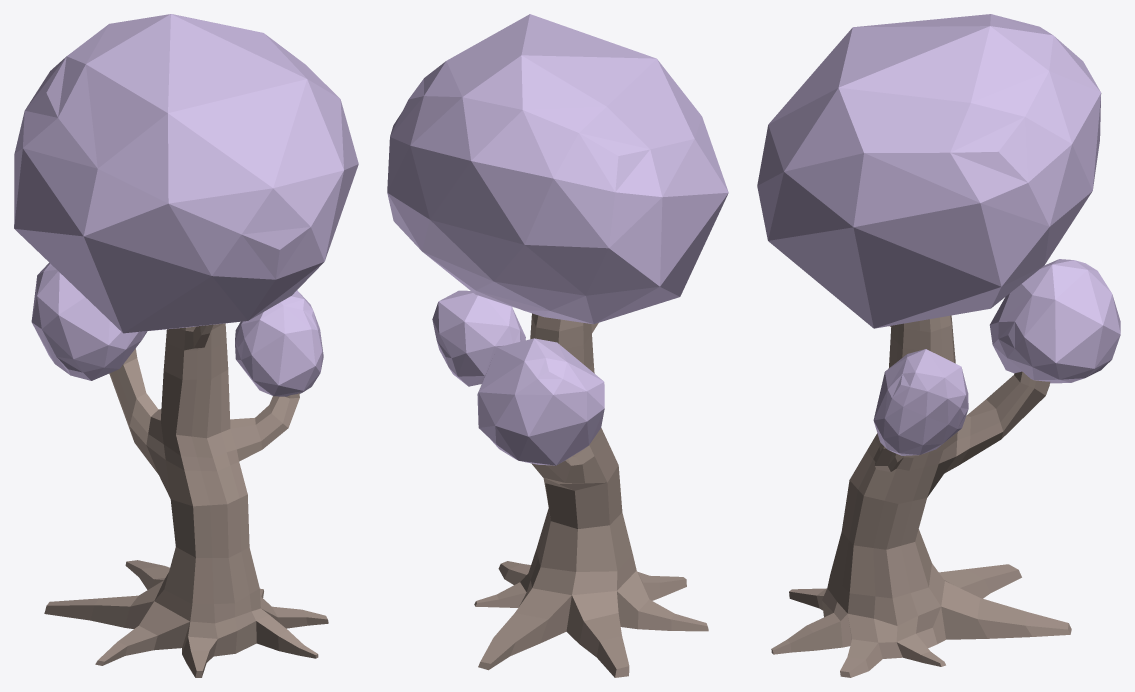
Rendered from Wishing_Tree3.fbx.
3 views of the same model, side by side, from view 1: azimuth 30°, elevation 25°; view 2: azimuth 150°, elevation 25°; view 3: azimuth 270°, elevation 25° (orthographic). The views are drawn at different scales.
Visible parts, largest first — view 1: Wishing; view 2: Wishing; view 3: Wishing.
Boxes of the visible parts, <box> form: Wishing: <box>14,14,358,677</box>; Wishing: <box>387,14,728,677</box>; Wishing: <box>757,14,1120,677</box>.
Size of the model in its own units: 412 by 819 by 445.
